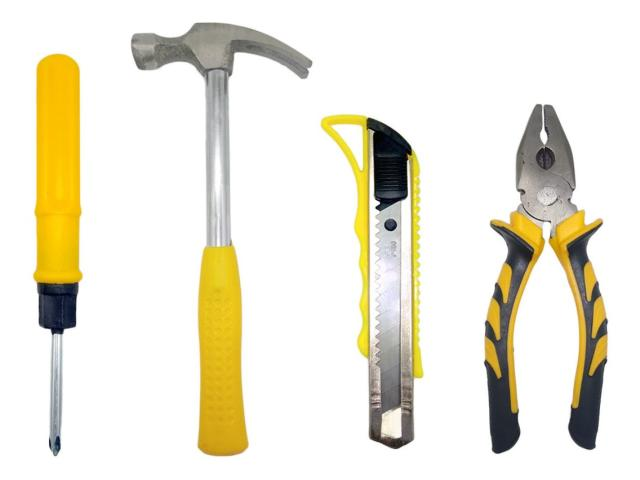Hammer: (131, 23, 311, 455)
Pliers: (485, 104, 608, 453)
Screwdriver: (34, 55, 82, 455)
Utility knife: (321, 115, 422, 448)
